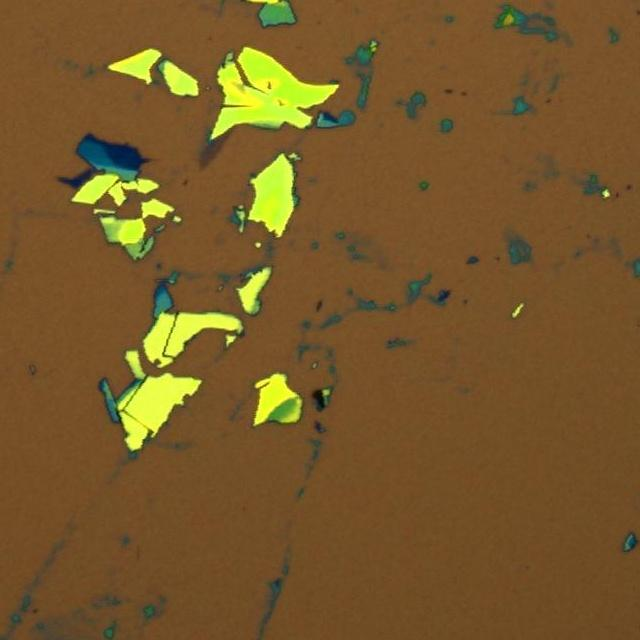monolayer-eWW4: (199, 126, 232, 170)
